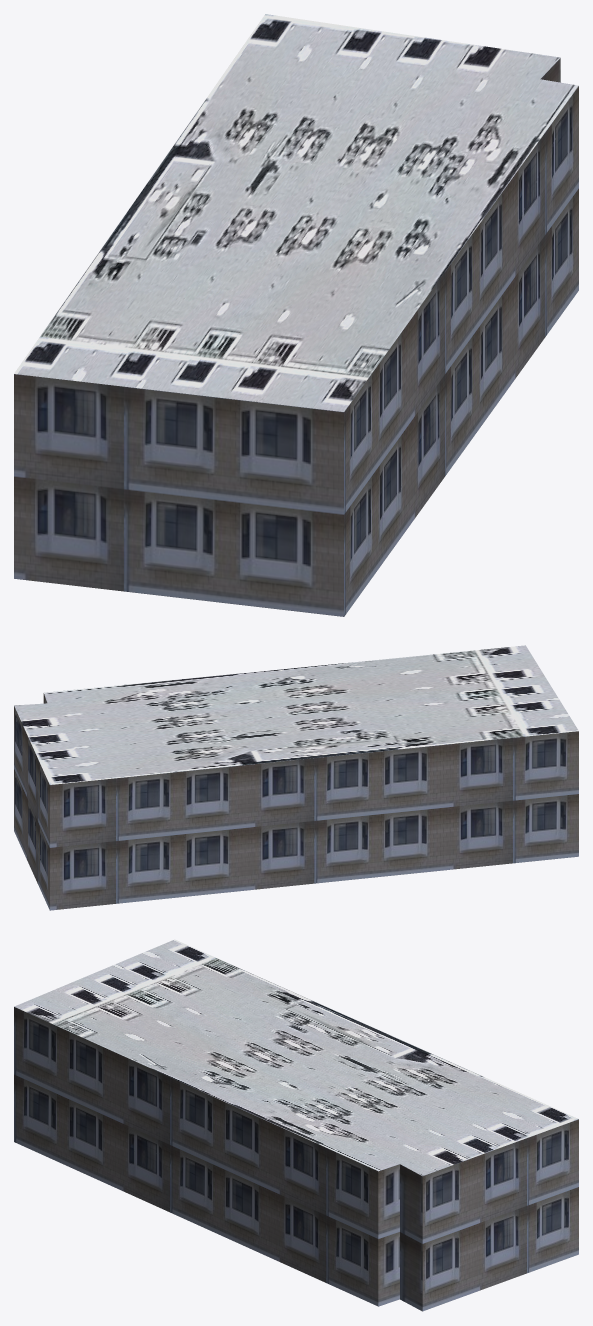
The model's file is ResTex__1551.fbx.
3 renders of one model, top to bottom at view 1: azimuth 30°, elevation 25°; view 2: azimuth 150°, elevation 25°; view 3: azimuth 270°, elevation 25°, orthographic. The views are drawn at different scales.
Parts seen in each view (by area): view 1: CityEngineMaterial_m, CityEngineMaterial_3_m; view 2: CityEngineMaterial_3_m, CityEngineMaterial_m; view 3: CityEngineMaterial_3_m, CityEngineMaterial_m.
Part boxes in pixels (x1,y1,x2,y2): CityEngineMaterial_m: (14,14,578,411); CityEngineMaterial_3_m: (14,58,578,616); CityEngineMaterial_3_m: (14,693,578,910); CityEngineMaterial_m: (14,645,578,784); CityEngineMaterial_3_m: (14,1007,578,1311); CityEngineMaterial_m: (14,939,578,1175).
Size of the model in its own units: 22.51 by 6 by 22.7.
Materials: 2 (2 with a texture image).
